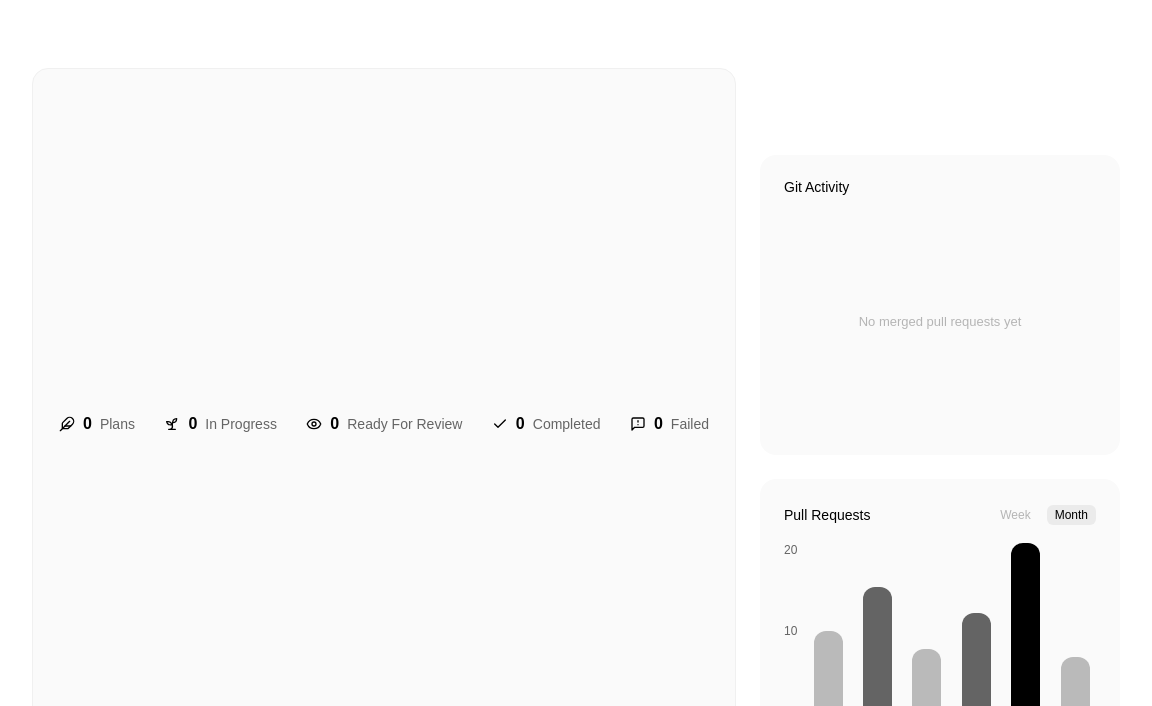
it: TendrilDashboard pull requests week/month toggle › renders accessible labels with backward compatibility when structured date fields are absent
Click the button "Week": (1015, 515) [992,505,1039,525]
(page scrolled)
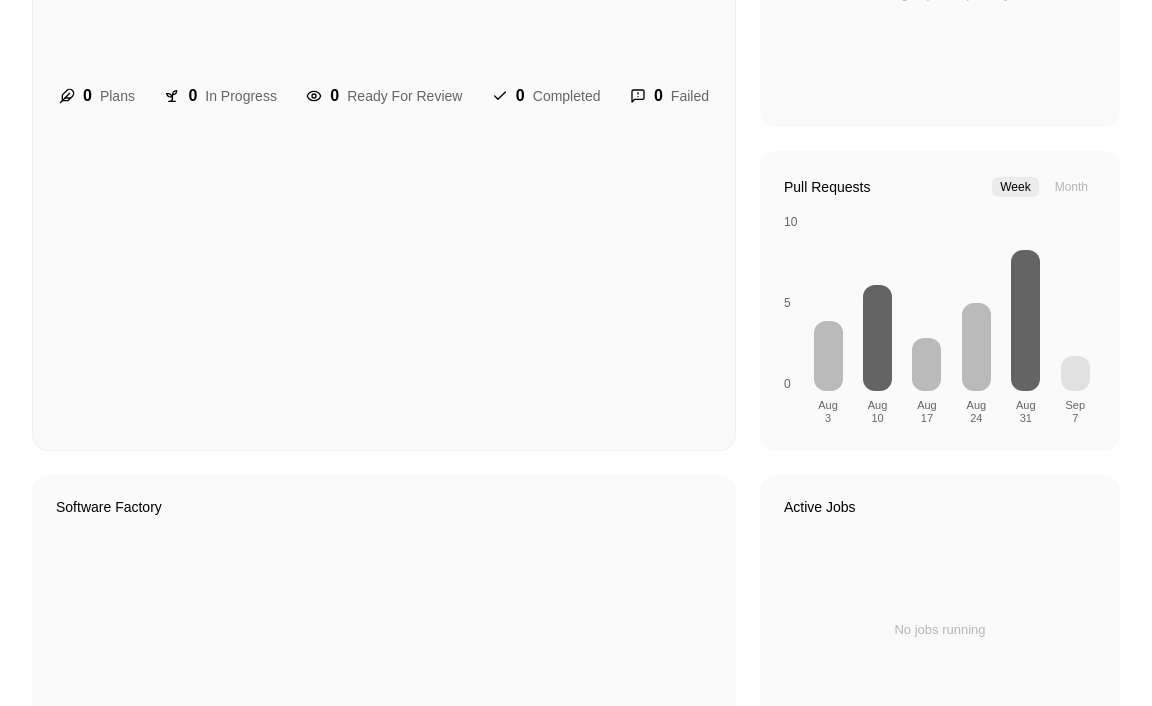
Now the picture named "Aug 24: 5 pull requests merged" is shown, box [962,303,991,391]
